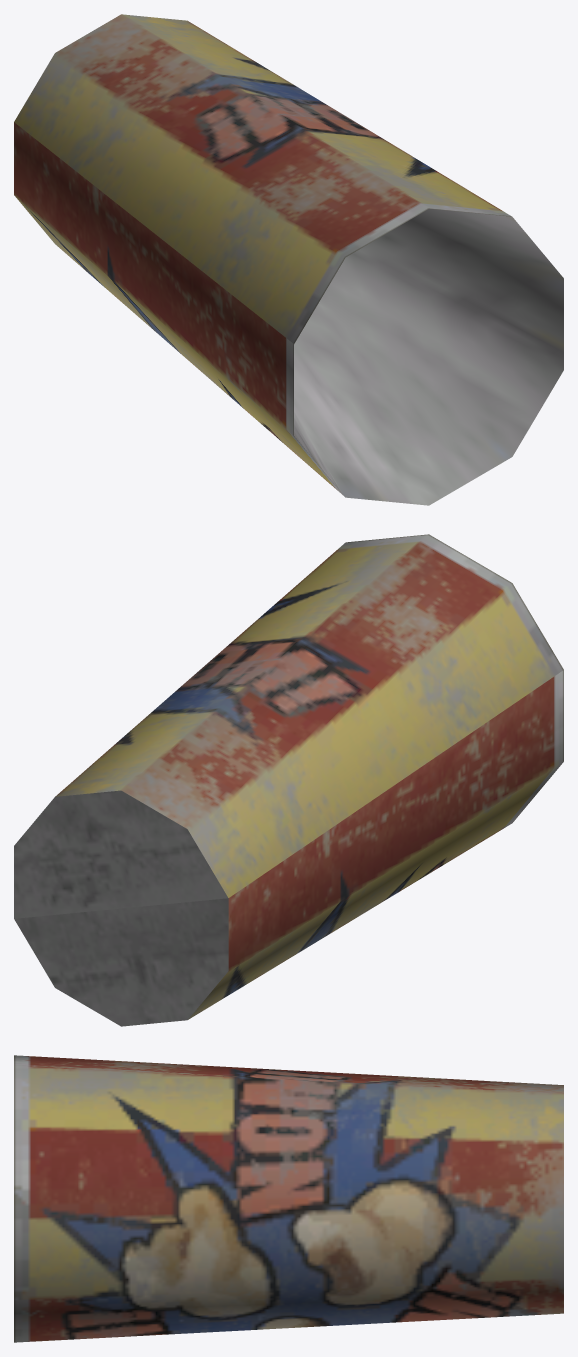
Rendered from popcorn_cup_single_LOD0.obj.
3 views of the same model, one above another, from view 1: azimuth 30°, elevation 25°; view 2: azimuth 150°, elevation 25°; view 3: azimuth 270°, elevation 25° (orthographic). The views are drawn at different scales.
Parts seen in each view (by area): view 1: mtl_pocorn_cup; view 2: mtl_pocorn_cup; view 3: mtl_pocorn_cup.
Boxes of the visible parts, box(x1,y1,x2,y2) form: mtl_pocorn_cup: box(14, 14, 563, 505); mtl_pocorn_cup: box(14, 534, 563, 1026); mtl_pocorn_cup: box(14, 1055, 563, 1342).
Bounding box in the file's own units: 12.8 × 13.46 × 25.29.
